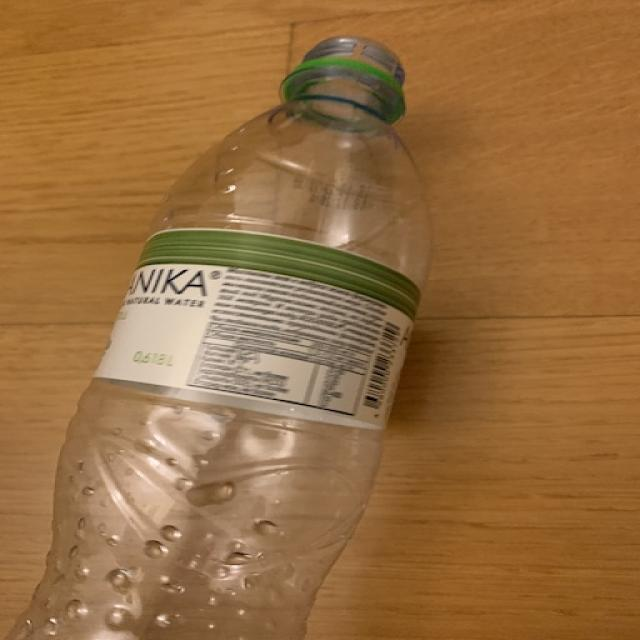litter: (0, 26, 470, 630)
